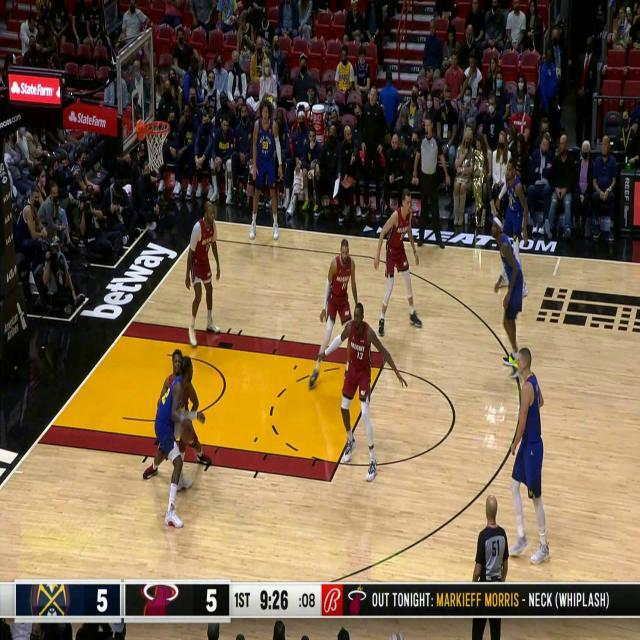rim: (181, 423, 195, 443)
